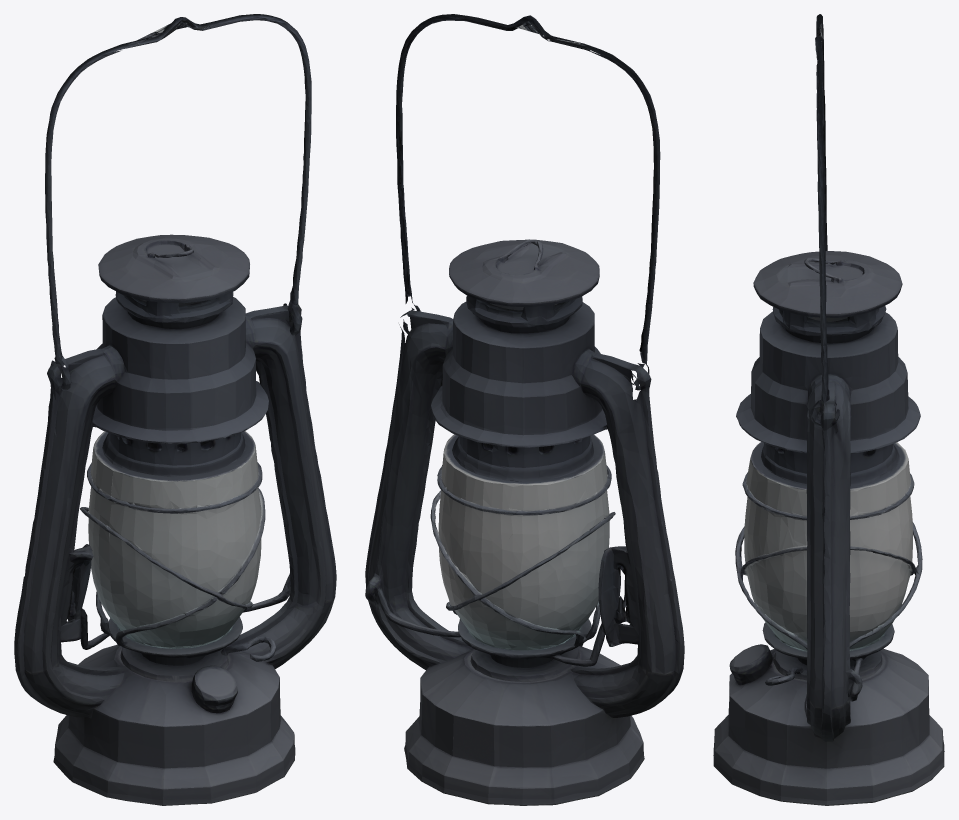
File: lentera.glb
3 views of the same model, side by side, from view 1: azimuth 30°, elevation 25°; view 2: azimuth 150°, elevation 25°; view 3: azimuth 270°, elevation 25° (orthographic). The views are drawn at different scales.
Visible parts, largest first — view 1: world; view 2: world; view 3: world.
Boxes of the visible parts, x1,y1,x2,y2 form: world: [14, 14, 336, 805]; world: [365, 14, 684, 805]; world: [713, 14, 944, 805].
Size of the model in its own units: 0.652 by 1.45 by 0.4215.
Materials: 1 (1 with a texture image).
